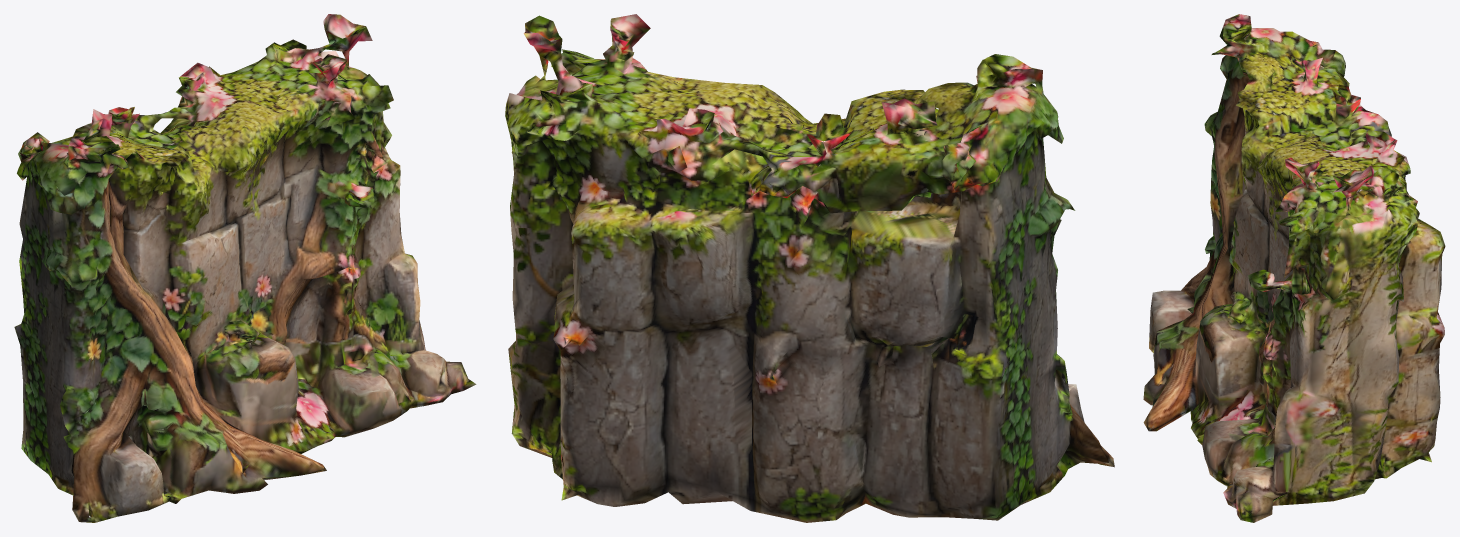
Rendered from FlowerForest_Wall.fbx.
The picture shows the model from 3 angles, left to right: view 1: azimuth 30°, elevation 25°; view 2: azimuth 150°, elevation 25°; view 3: azimuth 270°, elevation 25°; orthographic projection. The views are drawn at different scales.
Visible parts, largest first — view 1: FlowerForest_Wall_Mesh; view 2: FlowerForest_Wall_Mesh; view 3: FlowerForest_Wall_Mesh.
Boxes of the visible parts, <box> form: FlowerForest_Wall_Mesh: <box>14,14,476,522</box>; FlowerForest_Wall_Mesh: <box>505,14,1114,522</box>; FlowerForest_Wall_Mesh: <box>1143,14,1445,522</box>.
Size of the model in its own units: 6 by 4.58 by 3.82.
Materials: 1 (1 with a texture image).
